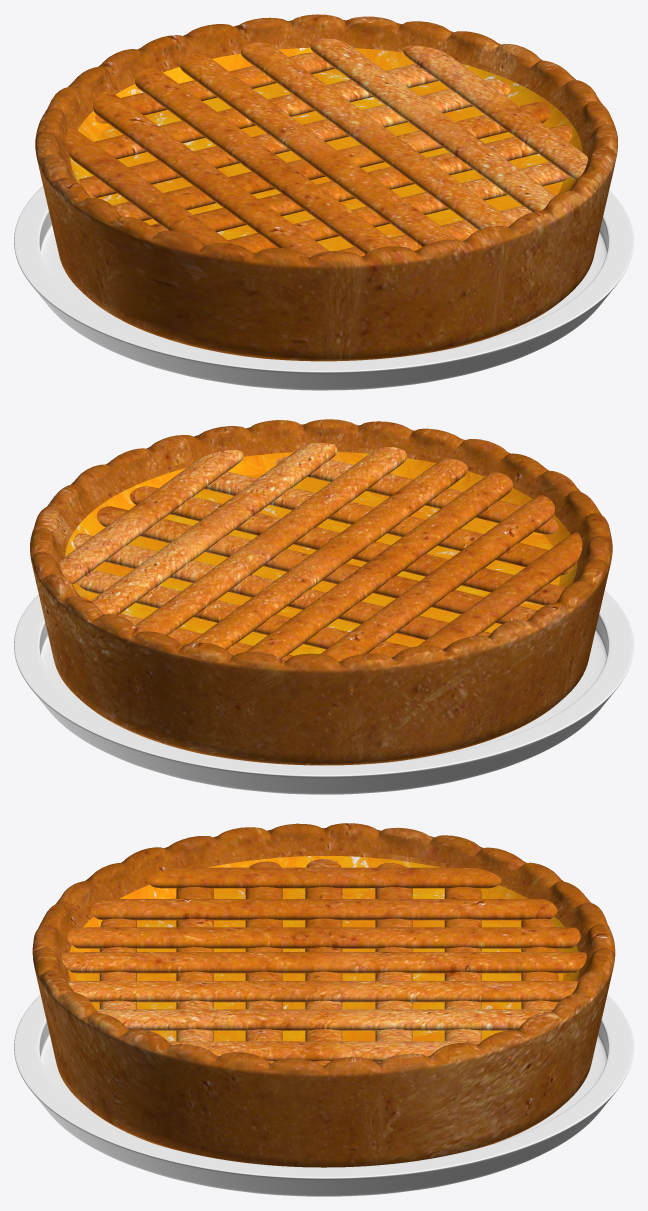
Rendered from Cake.fbx.
The picture shows the model from 3 angles, top to bottom: view 1: azimuth 30°, elevation 25°; view 2: azimuth 150°, elevation 25°; view 3: azimuth 270°, elevation 25°; orthographic projection.
Parts seen in each view (by area): view 1: Cube.013, Cylinder; view 2: Cube.013, Cylinder; view 3: Cube.013, Cylinder.
Part boxes in pixels (x1=…): Cube.013: x1=35, y1=14, x2=617, y2=361; Cylinder: x1=14, y1=186, x2=633, y2=390; Cube.013: x1=30, y1=419, x2=612, y2=765; Cylinder: x1=14, y1=590, x2=633, y2=794; Cube.013: x1=32, y1=823, x2=615, y2=1167; Cylinder: x1=14, y1=994, x2=633, y2=1196.
Size of the model in its own units: 230 by 55.65 by 230.
